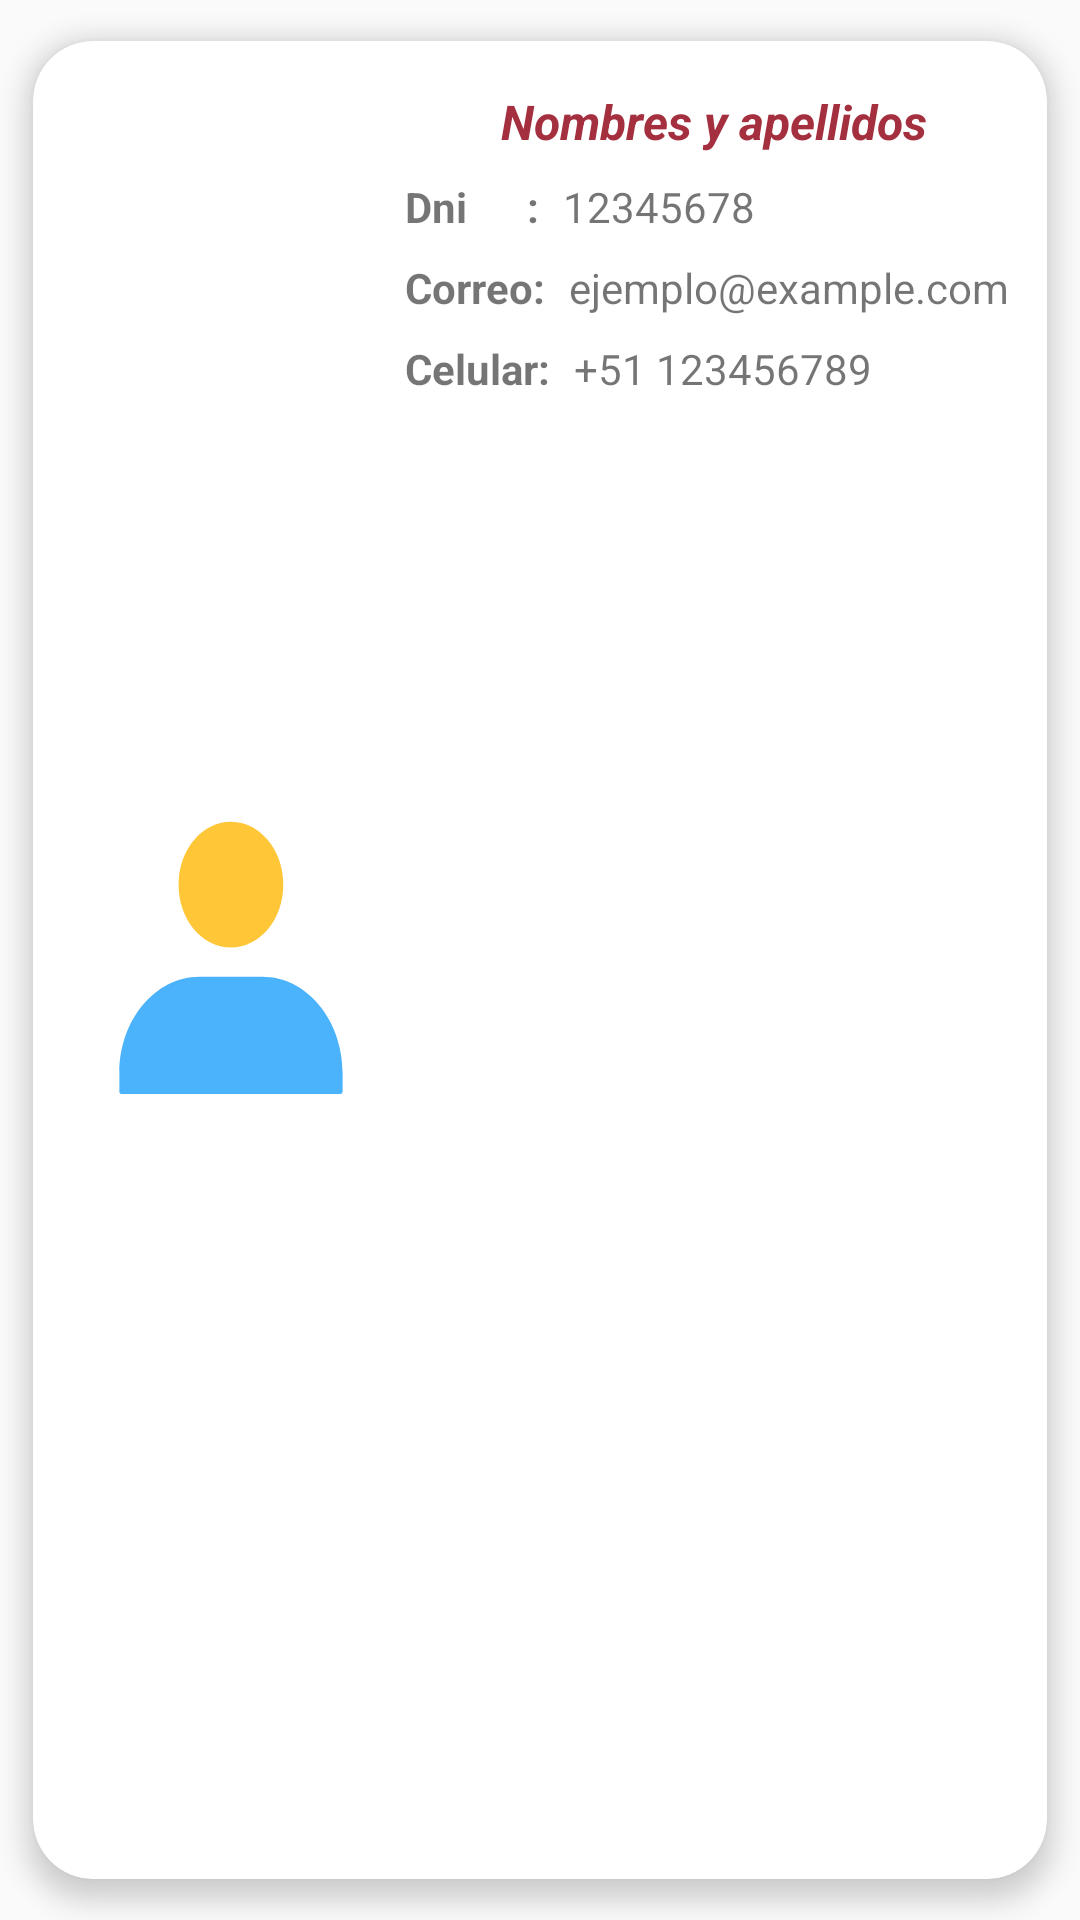

Icons on this 1080 x 1920 Android screen, each with its box as [x1,y1,x2,y2]:
cliente: [119,821,343,1094]
